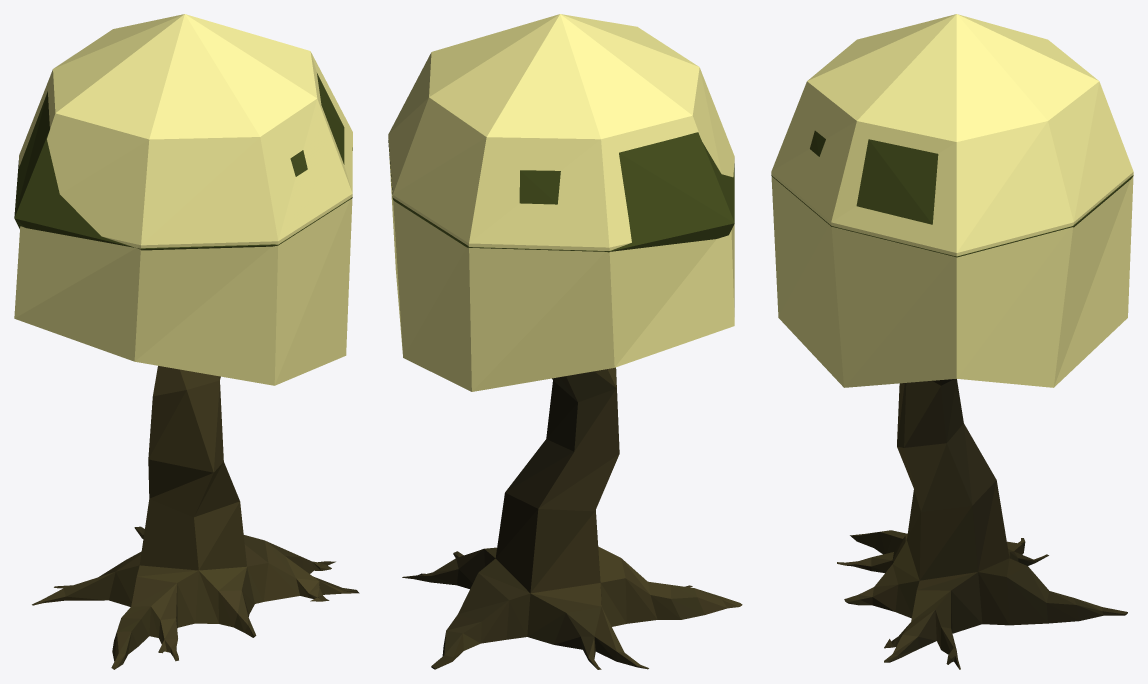
File: magic.obj
The picture shows the model from 3 angles, left to right: view 1: azimuth 30°, elevation 25°; view 2: azimuth 150°, elevation 25°; view 3: azimuth 270°, elevation 25°; orthographic projection. The views are drawn at different scales.
Visible parts, largest first — view 1: Object Magic tree 2026-10-08_17-04-27; view 2: Object Magic tree 2026-10-08_17-04-27; view 3: Object Magic tree 2026-10-08_17-04-27.
Part boxes in pixels (left/top/right/bottom): Object Magic tree 2026-10-08_17-04-27: left=14, top=14, right=359, bottom=669; Object Magic tree 2026-10-08_17-04-27: left=388, top=14, right=742, bottom=669; Object Magic tree 2026-10-08_17-04-27: left=771, top=14, right=1133, bottom=669.
Size of the model in its own units: 272 by 450 by 254.
